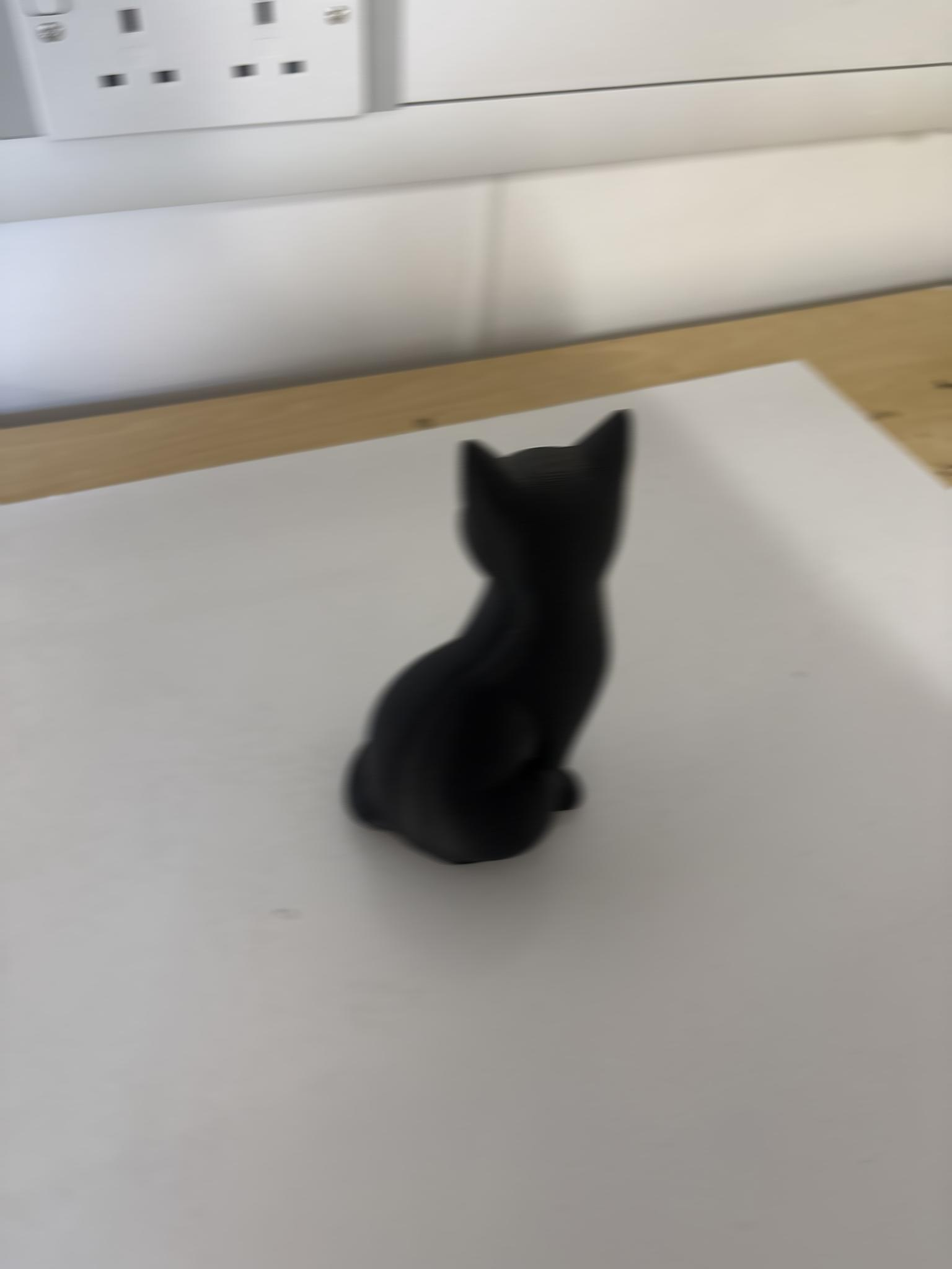cat: (345, 410, 631, 863)
